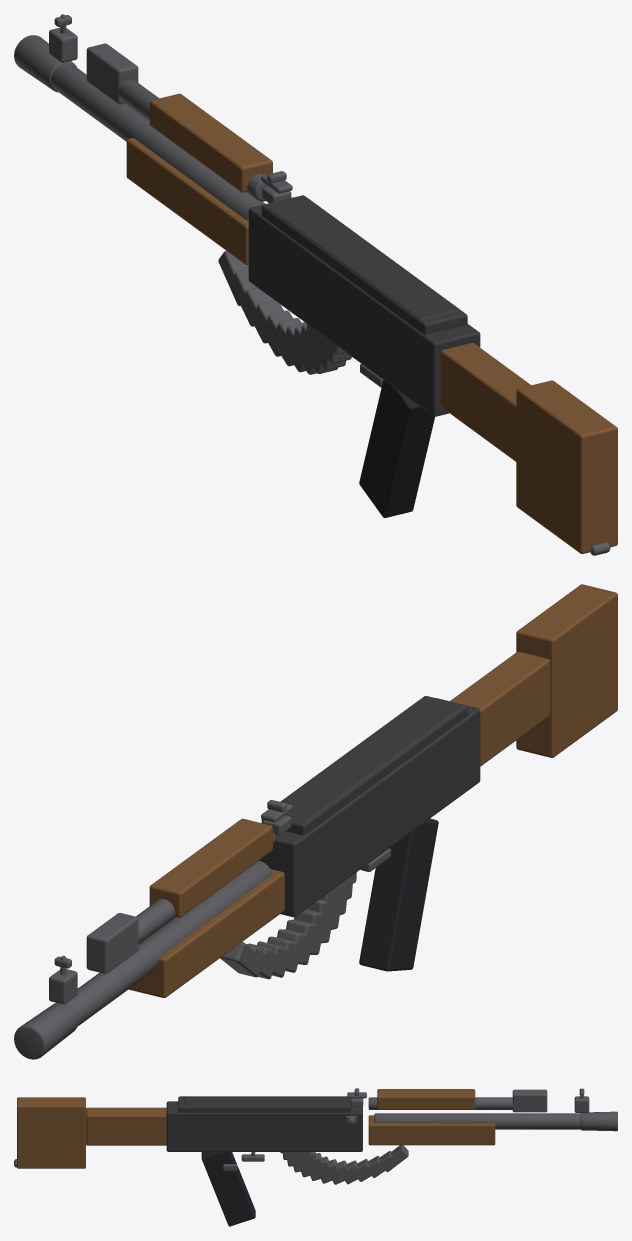
The model's file is ak_viewmodel.glb.
3 renders of one model, top to bottom at view 1: azimuth 30°, elevation 25°; view 2: azimuth 150°, elevation 25°; view 3: azimuth 270°, elevation 25°, orthographic. The views are drawn at different scales.
Visible parts, largest first — view 1: ak_viewmodel; view 2: ak_viewmodel; view 3: ak_viewmodel.
Boxes of the visible parts, x1,y1,x2,y2 form: ak_viewmodel: (14, 14, 617, 555); ak_viewmodel: (14, 584, 617, 1059); ak_viewmodel: (14, 1088, 617, 1226).
Bounding box in the file's own units: 0.061 × 0.2572 × 1.05.
